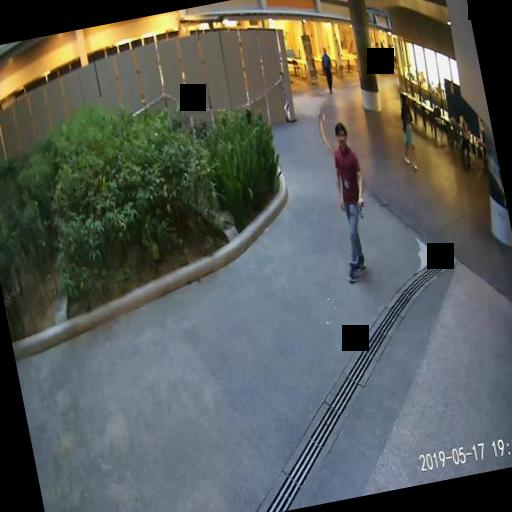Handgun: (354, 196, 366, 216)
